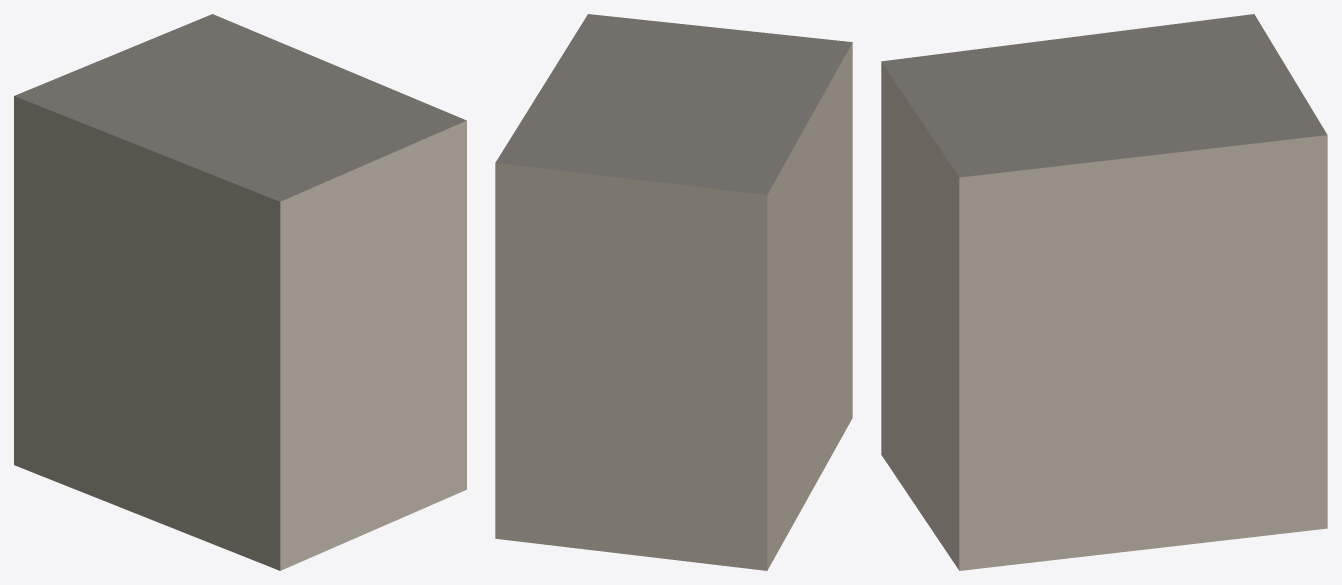
3 renders of one model, left to right at view 1: azimuth 30°, elevation 25°; view 2: azimuth 150°, elevation 25°; view 3: azimuth 270°, elevation 25°, orthographic. The views are drawn at different scales.
Parts seen in each view (by area): view 1: HP-w1197248208; view 2: HP-w1197248208; view 3: HP-w1197248208.
Part boxes in pixels (x1=…): HP-w1197248208: x1=14, y1=14, x2=466, y2=570; HP-w1197248208: x1=495, y1=14, x2=852, y2=570; HP-w1197248208: x1=881, y1=14, x2=1327, y2=570.
Size of the model in its own units: 16.05 by 18 by 18.5.
